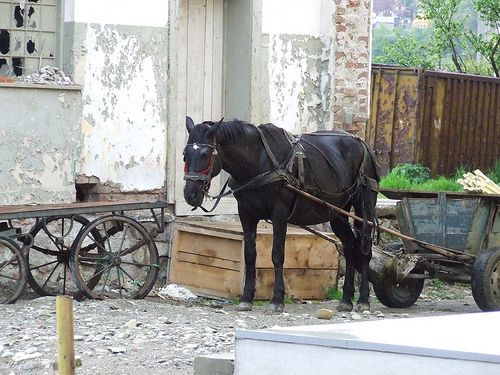horse: (182, 117, 381, 318)
